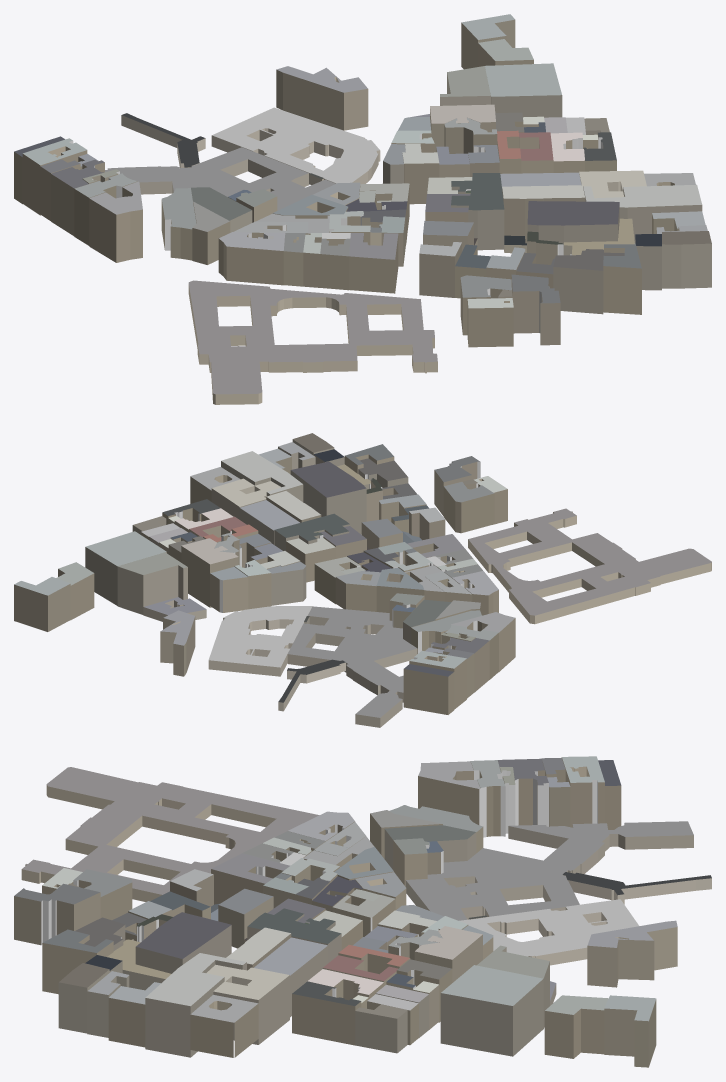
3 renders of one model, top to bottom at view 1: azimuth 30°, elevation 25°; view 2: azimuth 150°, elevation 25°; view 3: azimuth 270°, elevation 25°, orthographic. The views are drawn at different scales.
Visible parts, largest first — view 1: tuile; view 2: tuile; view 3: tuile.
Part boxes in pixels (left/top/right/bottom): tuile: left=14, top=14, right=711, bottom=404; tuile: left=14, top=433, right=711, bottom=727; tuile: left=14, top=756, right=711, bottom=1067.
Bounding box in the file's own units: 296 × 27.91 × 299.
